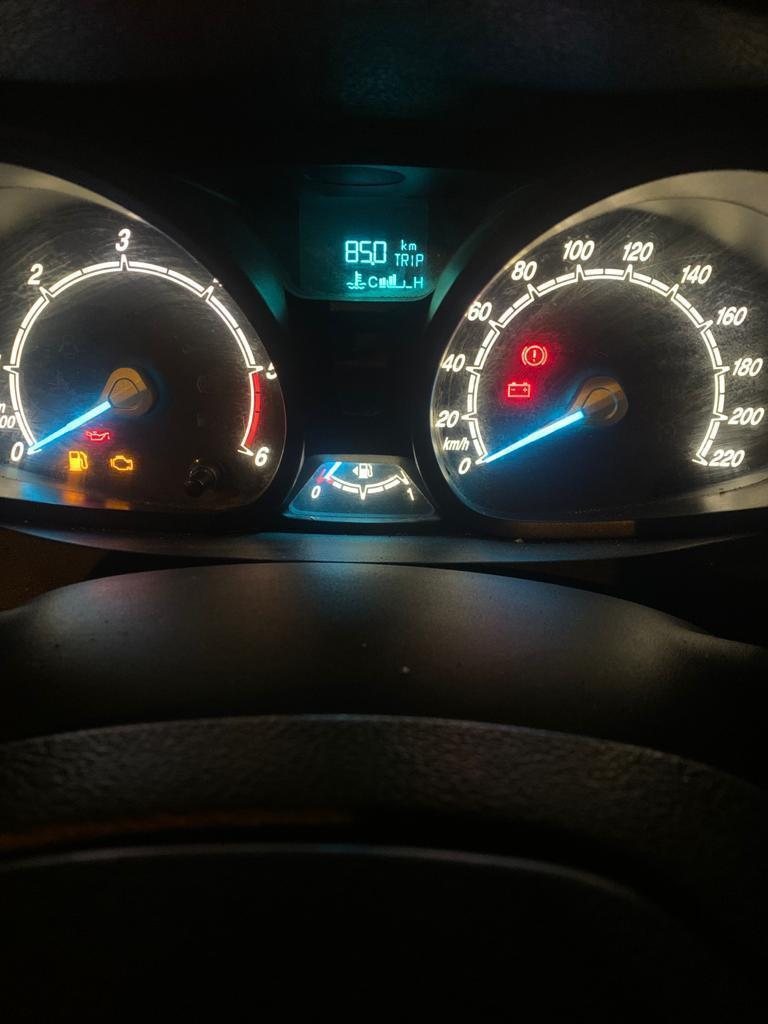,: (370, 260, 375, 267)
0: (373, 239, 387, 264)
5: (359, 239, 372, 262)
8: (344, 239, 358, 263)
X: (367, 274, 378, 290), (413, 274, 423, 289), (415, 252, 424, 266), (401, 252, 409, 267), (393, 251, 400, 266), (400, 238, 408, 250), (408, 242, 417, 251), (410, 253, 414, 267)
odometer: (297, 214, 435, 297)
